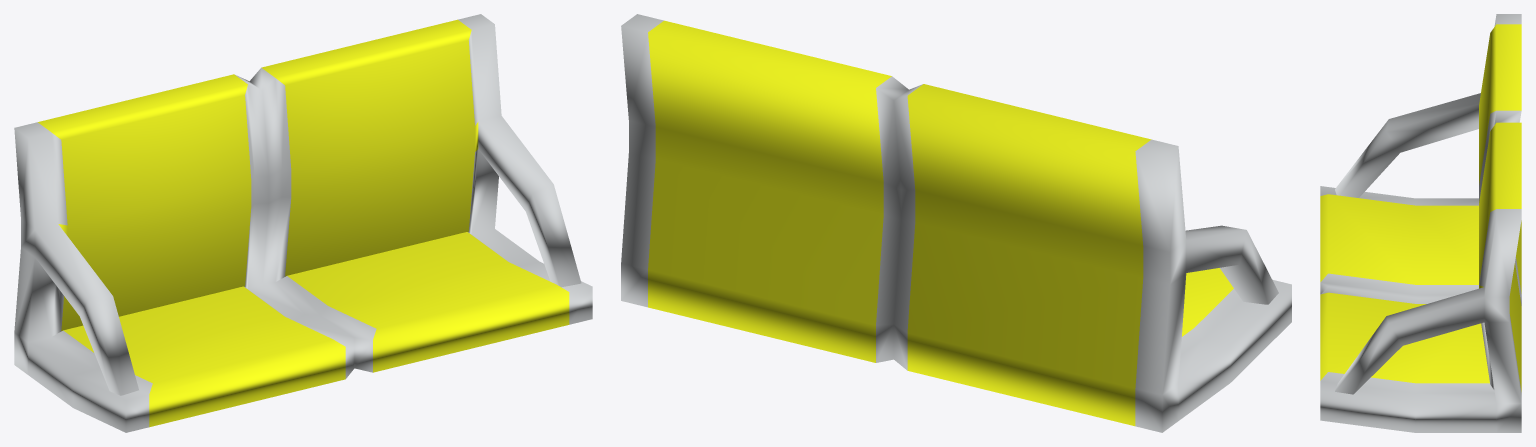
The model's file is subwayChairYellow.glb.
3 views of the same model, side by side, from view 1: azimuth 30°, elevation 25°; view 2: azimuth 150°, elevation 25°; view 3: azimuth 270°, elevation 25° (orthographic). The views are drawn at different scales.
Parts seen in each view (by area): view 1: Cube; view 2: Cube; view 3: Cube.
Part boxes in pixels (x1,y1,x2,y2): Cube: [14, 14, 592, 432]; Cube: [621, 14, 1291, 432]; Cube: [1320, 14, 1521, 432].
Bounding box in the file's own units: 4.76 × 2.31 × 1.97.
1 material, 1 textured.
